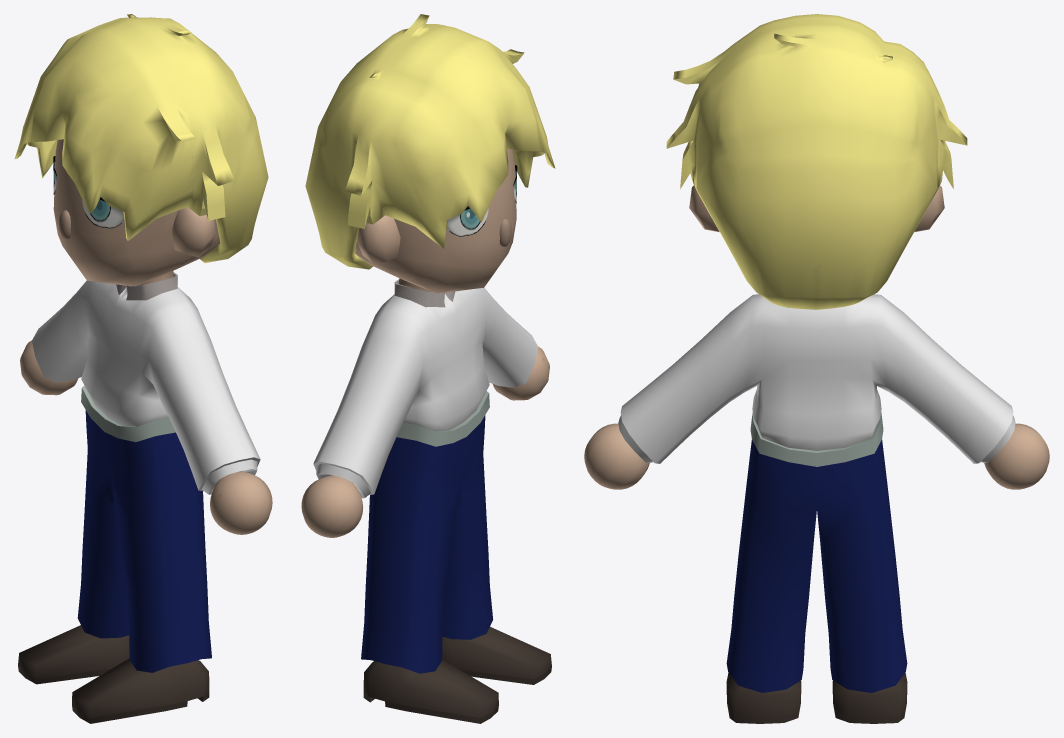
The model's file is NPC1.fbx.
3 views of the same model, side by side, from view 1: azimuth 30°, elevation 25°; view 2: azimuth 150°, elevation 25°; view 3: azimuth 270°, elevation 25° (orthographic). The views are drawn at different scales.
Parts seen in each view (by area): view 1: NPC1, NPC1 Eyes Card.001; view 2: NPC1, NPC1 Eyes Card.001; view 3: NPC1.
Boxes of the visible parts, bbox=[...] form: NPC1: bbox=[14, 14, 272, 723]; NPC1 Eyes Card.001: bbox=[53, 156, 124, 228]; NPC1: bbox=[301, 14, 555, 723]; NPC1 Eyes Card.001: bbox=[447, 165, 517, 236]; NPC1: bbox=[584, 14, 1049, 723].
Bounding box in the file's own units: 0.9598 × 1.83 × 2.98.
3 materials, 2 textured.
